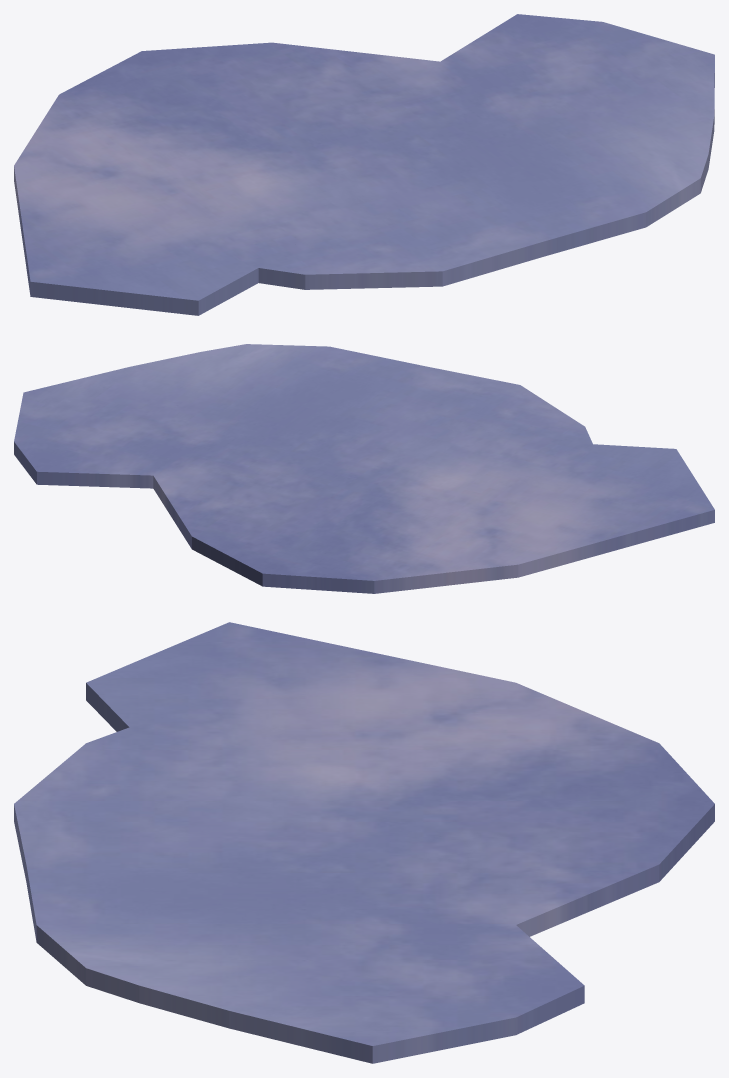
The model's file is sky.fbx.
The picture shows the model from 3 angles, top to bottom: view 1: azimuth 30°, elevation 25°; view 2: azimuth 150°, elevation 25°; view 3: azimuth 270°, elevation 25°; orthographic projection. The views are drawn at different scales.
Visible parts, largest first — view 1: 平面.007, 平面.002, 平面.006, 平面.003, 平面.004, 平面.005; view 2: 平面.002, 平面.007, 平面.006, 平面.004, 平面.003, 平面.005; view 3: 平面.002, 平面.007, 平面.004, 平面.003, 平面.006, 平面.005.
Part boxes in pixels (bbox=[...]): 平面.007: bbox=[258, 151, 708, 289]; 平面.002: bbox=[14, 42, 335, 184]; 平面.006: bbox=[14, 165, 279, 315]; 平面.003: bbox=[272, 50, 625, 182]; 平面.004: bbox=[441, 14, 714, 167]; 平面.005: bbox=[182, 129, 511, 255]; 平面.002: bbox=[177, 495, 518, 593]; 平面.007: bbox=[201, 344, 592, 444]; 平面.006: bbox=[480, 442, 714, 577]; 平面.004: bbox=[14, 352, 233, 488]; 平面.003: bbox=[153, 378, 343, 525]; 平面.005: bbox=[297, 401, 563, 503]; 平面.002: bbox=[373, 683, 714, 904]; 平面.007: bbox=[14, 727, 229, 1002]; 平面.004: bbox=[139, 925, 584, 1063]; 平面.003: bbox=[184, 814, 605, 959]; 平面.006: bbox=[86, 622, 515, 743]; 平面.005: bbox=[145, 725, 451, 884].
Size of what is drawn, in the model's own units: 287 by 5.59 by 201.
